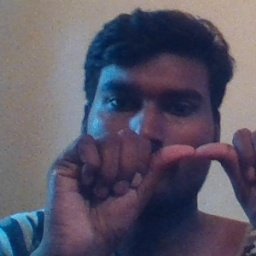A: (97, 121, 256, 227)
